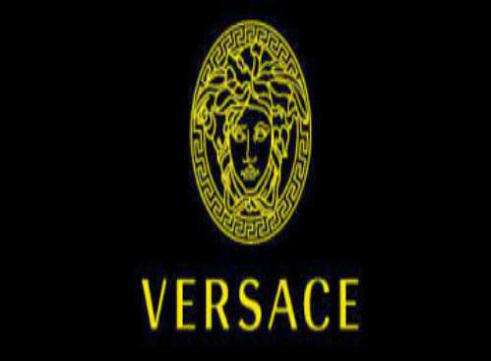VERSACE: (122, 9, 368, 337)
